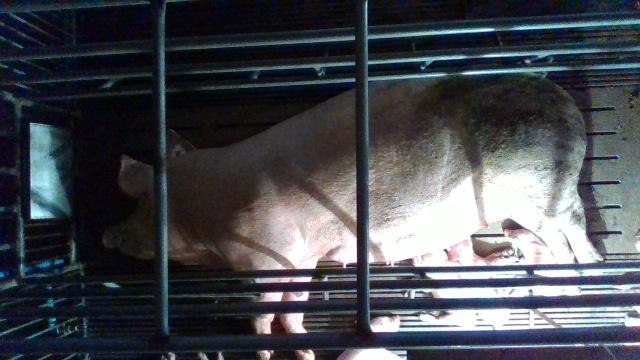piglet: (443, 237, 511, 331), (411, 251, 475, 330), (503, 229, 564, 296), (337, 315, 401, 360)
sow-sleep-lactate: (101, 73, 609, 360)
